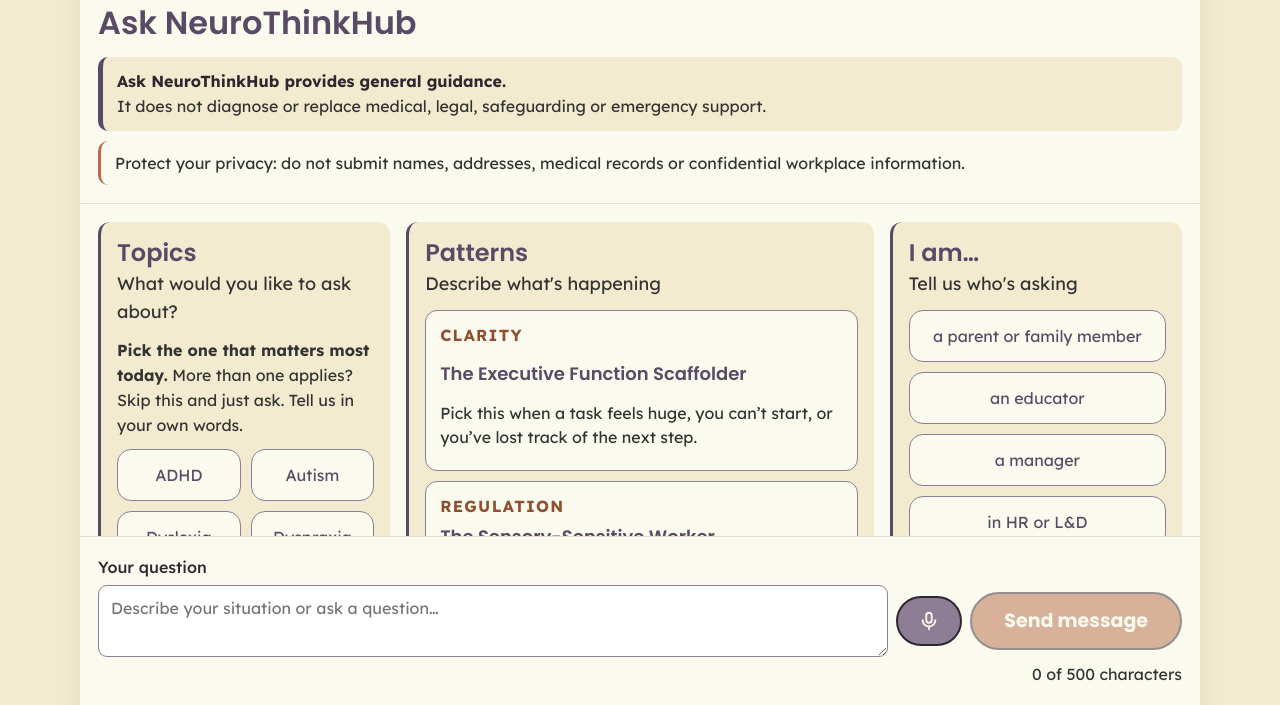
it: Ask NeuroThinkHub pilot UI › shows suggested questions only while the chat and input are both empty
This screenshot has width=1280, height=705.
Step 1. Type "Hi" into the text box labelled "Your question" → x=493, y=621, box x1=98 y1=586 x2=888 y2=657
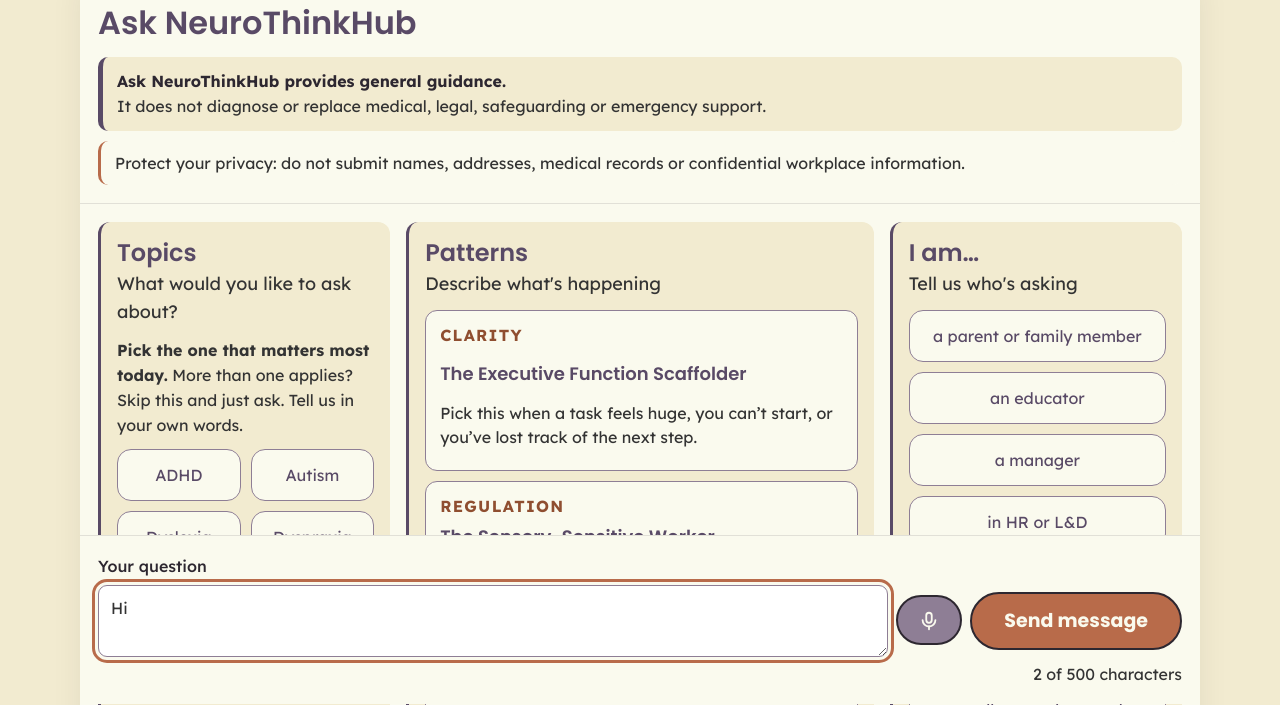
Step 2. Clear the text box labelled "Your question" → x=493, y=621, box x1=98 y1=586 x2=888 y2=657
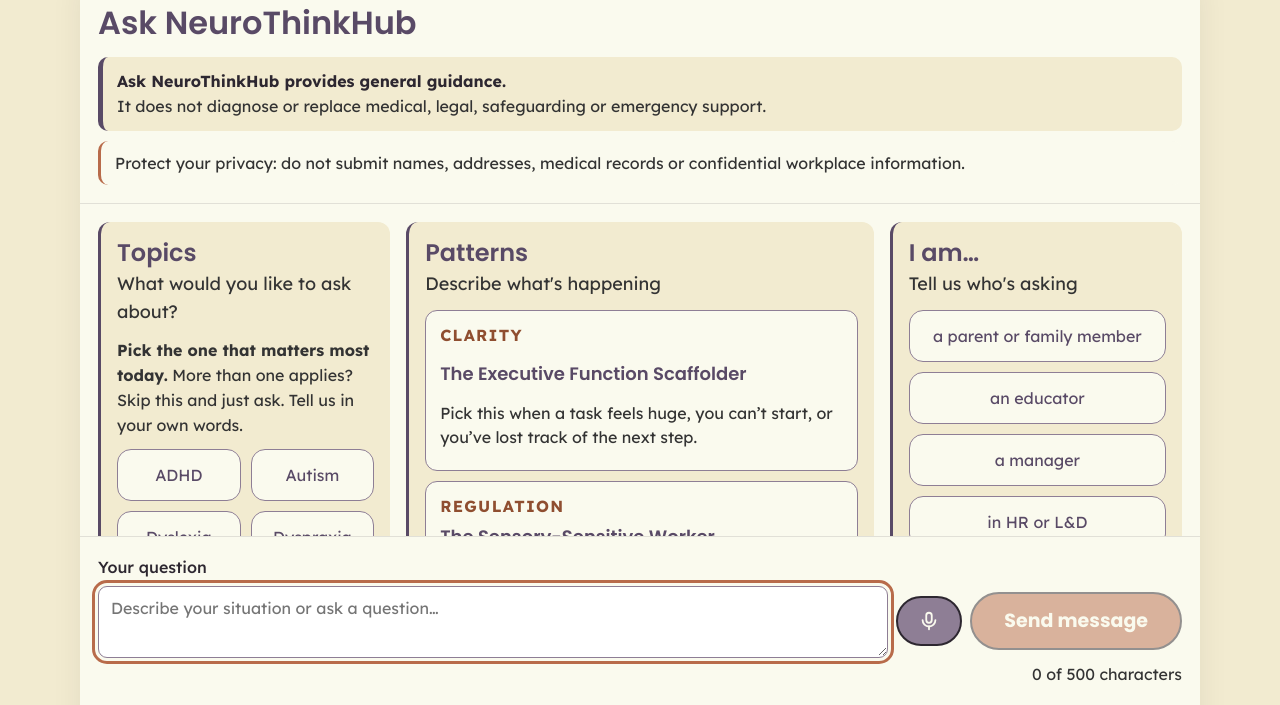
Step 3. Type "Hi" into the text box labelled "Your question" → x=493, y=621, box x1=98 y1=586 x2=888 y2=657
Then press Enter
(page scrolled)
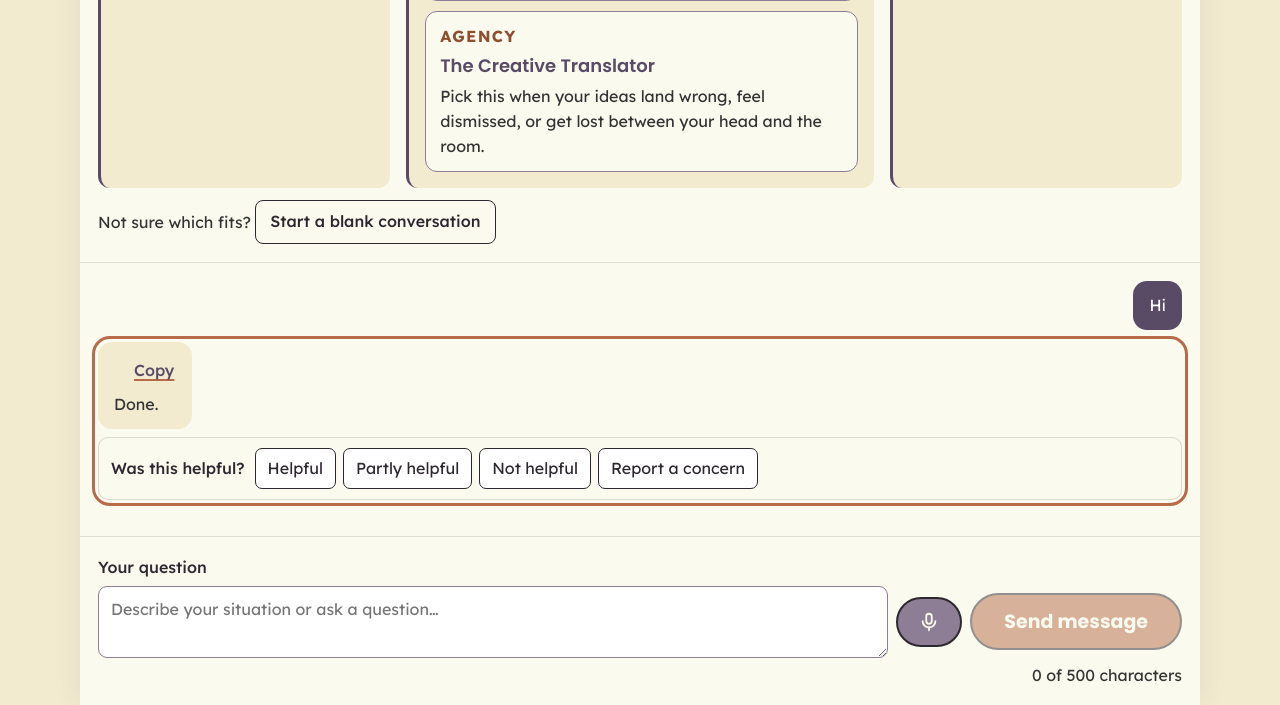
Expected: the text "Done." is shown, x1=114 y1=394 x2=158 y2=414
